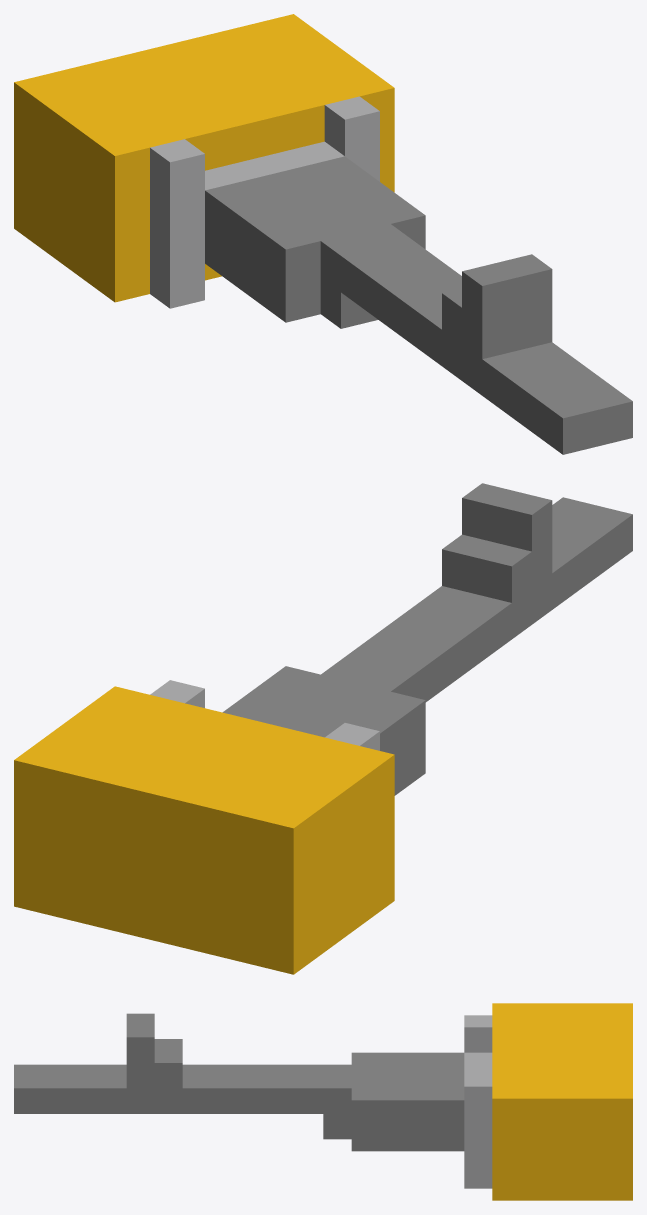
The model's file is Meteor_roots_Gun_Model.obj.
3 views of the same model, one above another, from view 1: azimuth 30°, elevation 25°; view 2: azimuth 150°, elevation 25°; view 3: azimuth 270°, elevation 25° (orthographic). The views are drawn at different scales.
Size of the model in its own units: 0.8 by 0.5 by 2.2.
1 material, 1 textured.
